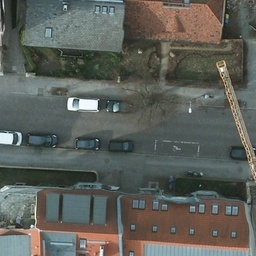car: (26, 130, 58, 148), (106, 98, 138, 115), (75, 136, 99, 151), (110, 138, 134, 151)
van: (65, 96, 100, 111), (0, 129, 21, 149)
